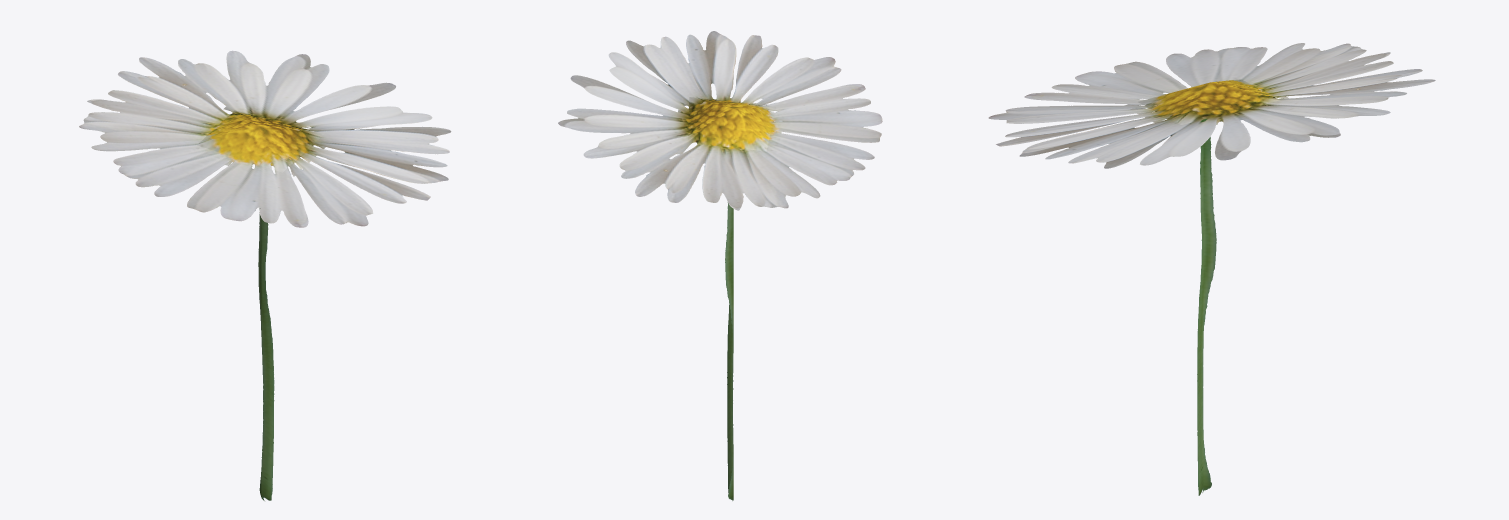
Rendered from daisy.glb.
3 views of the same model, side by side, from view 1: azimuth 30°, elevation 25°; view 2: azimuth 150°, elevation 25°; view 3: azimuth 270°, elevation 25° (orthographic). The views are drawn at different scales.
Parts seen in each view (by area): view 1: flowers_2_01_Flowers_2_0.007; view 2: flowers_2_01_Flowers_2_0.007; view 3: flowers_2_01_Flowers_2_0.007.
Part boxes in pixels (left/top/right/bottom): flowers_2_01_Flowers_2_0.007: left=79, top=50, right=451, bottom=500; flowers_2_01_Flowers_2_0.007: left=558, top=31, right=882, bottom=500; flowers_2_01_Flowers_2_0.007: left=988, top=43, right=1435, bottom=495.
Size of the model in its own units: 0.4661 by 0.4324 by 0.5301.
Materials: 1 (1 with a texture image).
